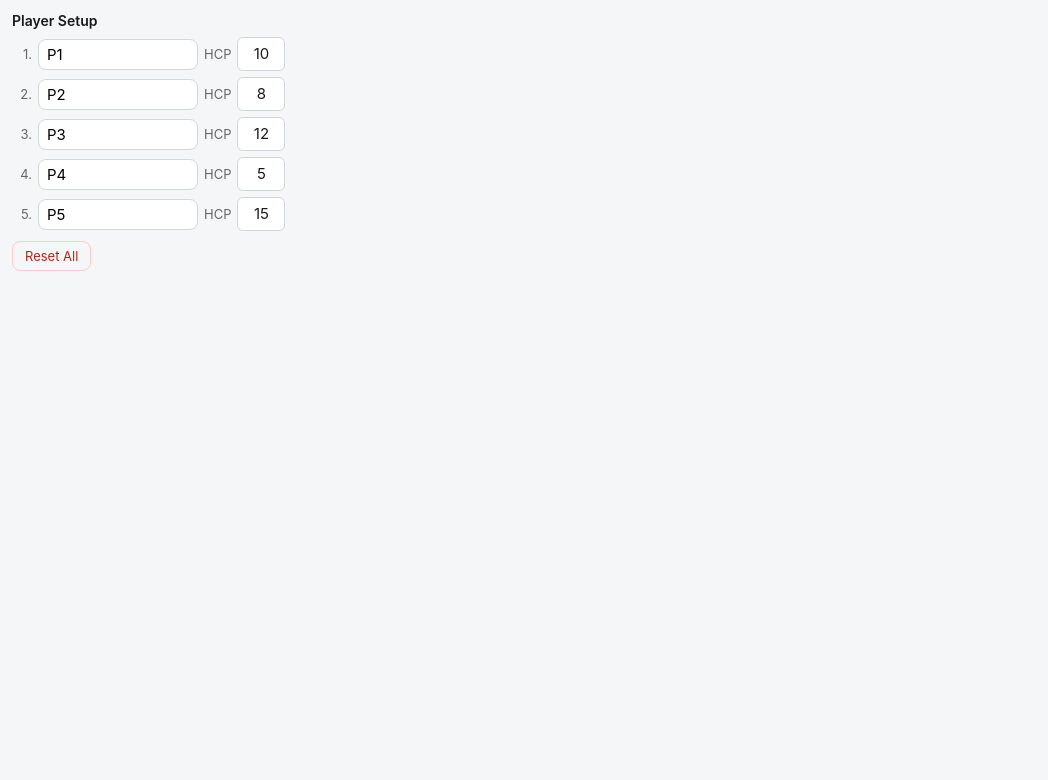
PlayerSetupPanel — name-blur auto-open › typing a real name over a placeholder ('P1') and blurring auto-opens that player's HCP keypad
This screenshot has width=1048, height=780.
Step 1. Replace the text in the field with placeholder "Name" in the row of "10" with "Alice" → (118, 54), box [38, 38, 198, 70]
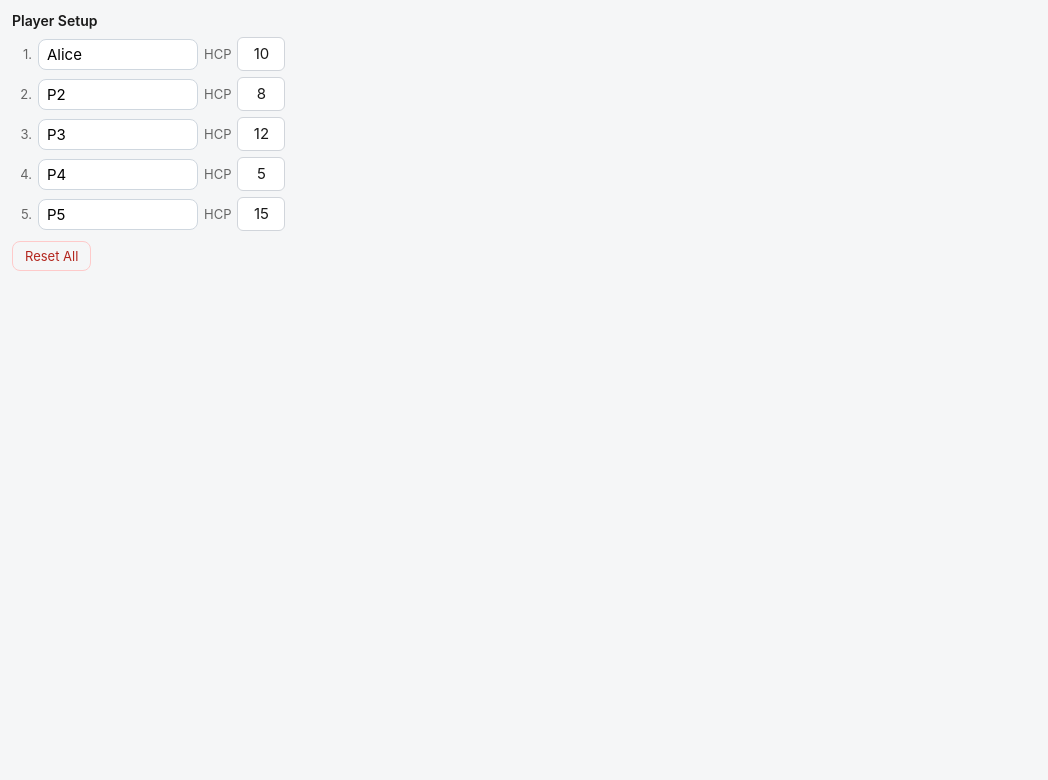
Step 2. Leave the field with placeholder "Name" in the row of "10", box [38, 38, 198, 70]
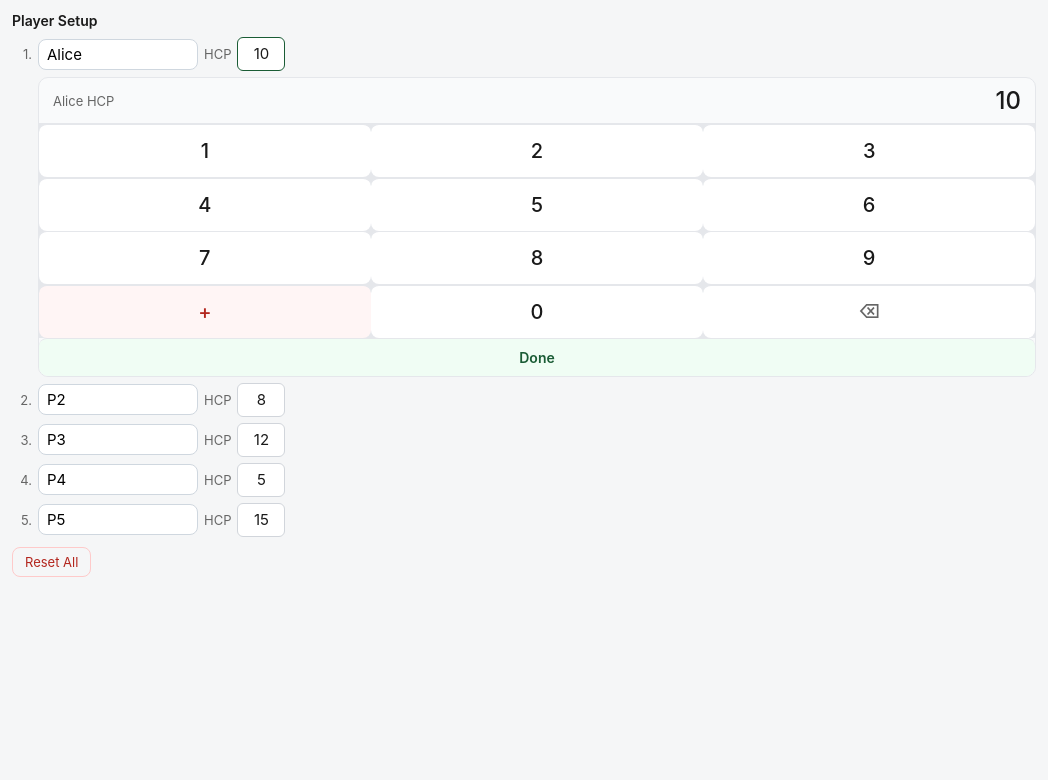
Expected: the text "Alice HCP" is shown, [53, 92, 114, 108]
